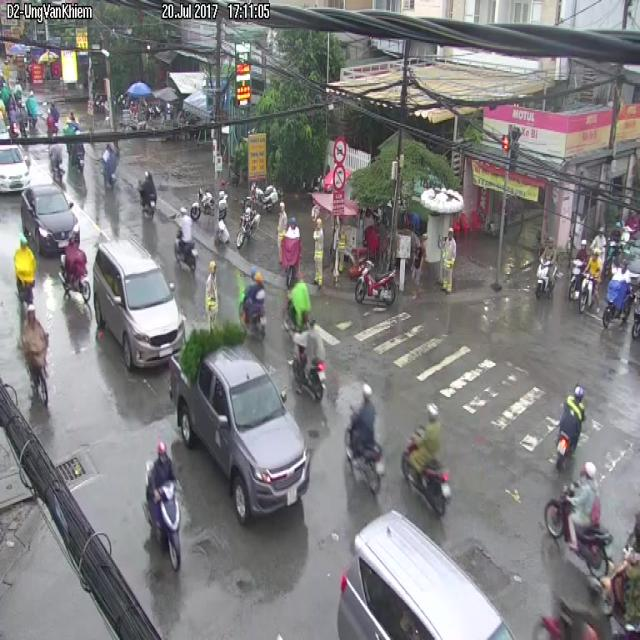car: (145, 441, 181, 569), (355, 259, 397, 305), (13, 234, 36, 302)
traffic-light: (169, 345, 309, 523), (92, 239, 183, 367), (21, 185, 77, 256)
